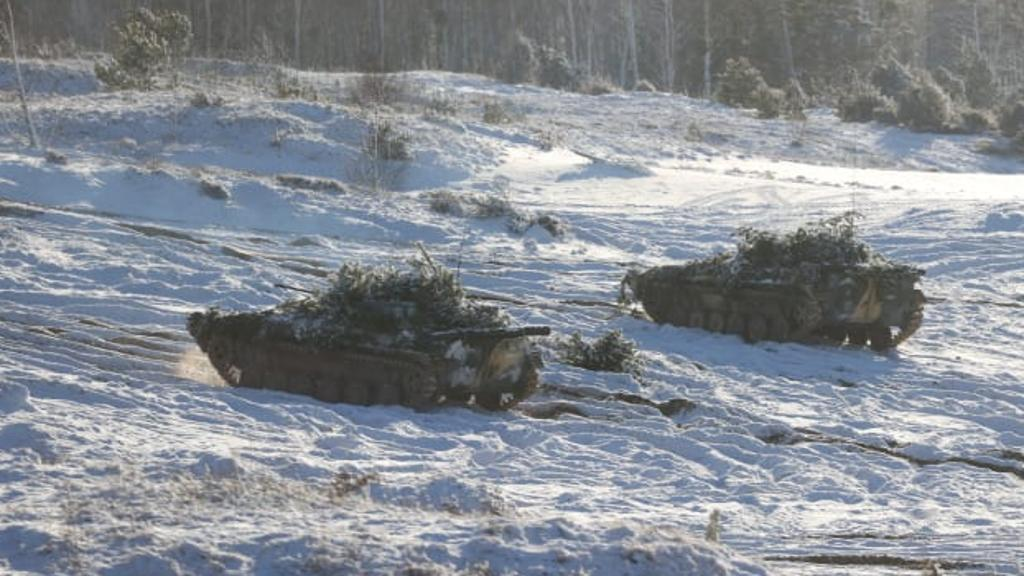APC-IFV: (182, 247, 545, 417), (617, 214, 930, 354)
